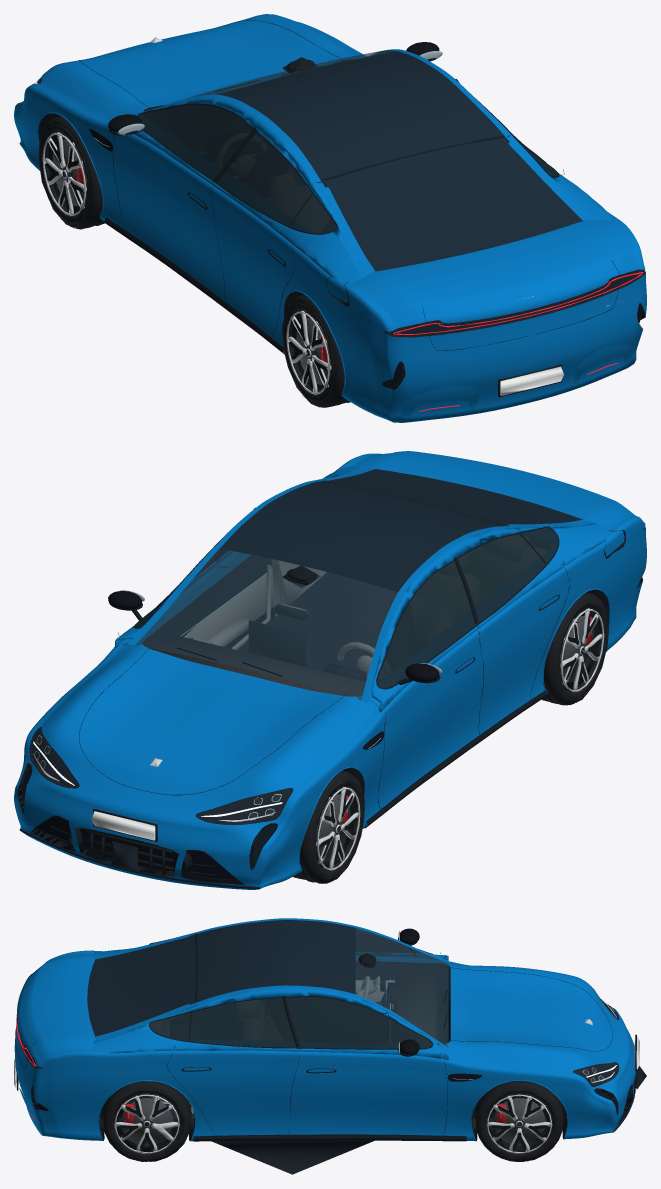
Rendered from xiaomi-su7.low.glb.
3 renders of one model, top to bottom at view 1: azimuth 30°, elevation 25°; view 2: azimuth 150°, elevation 25°; view 3: azimuth 270°, elevation 25°, orthographic. The views are drawn at different scales.
Visible parts, largest first — view 1: geometry:body, geometry:wheel-front-left, geometry:wheel-rear-left, geometry:spoiler; view 2: geometry:body, geometry:interior, geometry:wheel-rear-left, geometry:wheel-front-left, geometry:spoiler; view 3: geometry:body, geometry:interior, geometry:wheel-rear-right, geometry:wheel-front-right, geometry:spoiler.
Boxes of the visible parts, left/top/right/bottom form: geometry:body: left=14, top=14, right=646, bottom=422; geometry:wheel-front-left: left=38, top=116, right=104, bottom=229; geometry:wheel-rear-left: left=282, top=294, right=350, bottom=407; geometry:spoiler: left=390, top=238, right=622, bottom=305; geometry:body: left=14, top=453, right=646, bottom=889; geometry:interior: left=153, top=559, right=397, bottom=696; geometry:wheel-rear-left: left=542, top=592, right=608, bottom=705; geometry:wheel-front-left: left=293, top=770, right=364, bottom=883; geometry:spoiler: left=391, top=451, right=622, bottom=507; geometry:body: left=14, top=918, right=646, bottom=1141; geometry:interior: left=152, top=974, right=437, bottom=1174; geometry:wheel-rear-right: left=102, top=1081, right=191, bottom=1161; geometry:wheel-front-right: left=475, top=1081, right=563, bottom=1161; geometry:spoiler: left=31, top=959, right=61, bottom=1045.
Bounding box in the file's own units: 2.34 × 1.99 × 5.1.
